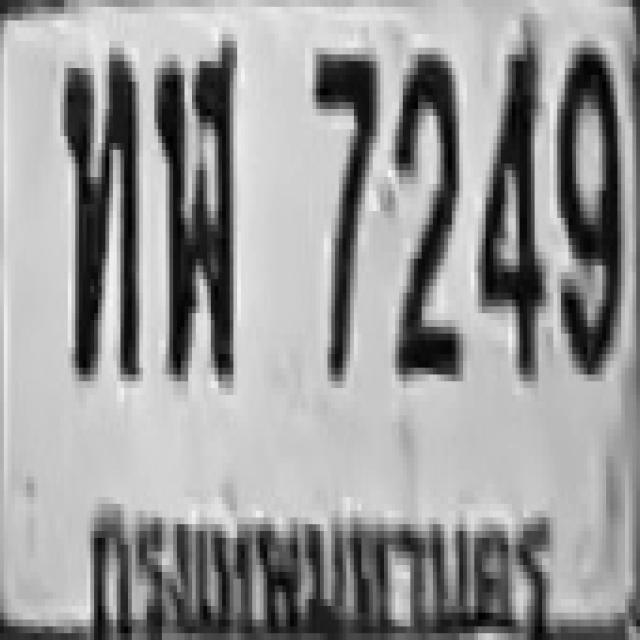2: (392, 48, 459, 374)
32ThorThaHan: (60, 48, 136, 374)
4: (474, 31, 538, 371)
51LorChula: (154, 31, 238, 382)
7: (308, 44, 376, 378)
9: (554, 34, 618, 368)
Bangkok: (69, 490, 554, 640)
